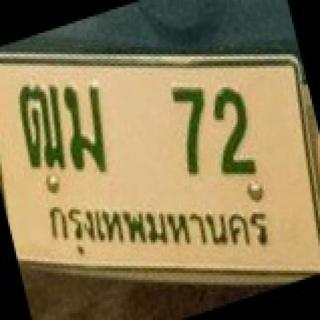A18: (17, 80, 65, 170)
A33: (64, 81, 113, 175)
N02: (211, 80, 263, 180)
N07: (168, 80, 210, 180)
P04: (47, 204, 272, 262)
